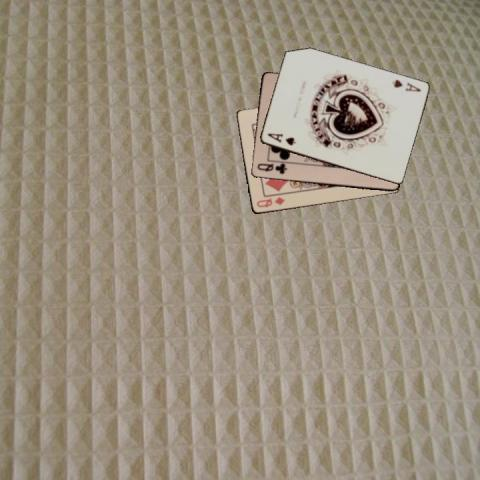As: (264, 130, 297, 146), (389, 77, 422, 93)
Qc: (254, 161, 288, 175)
Qd: (253, 194, 286, 209)
